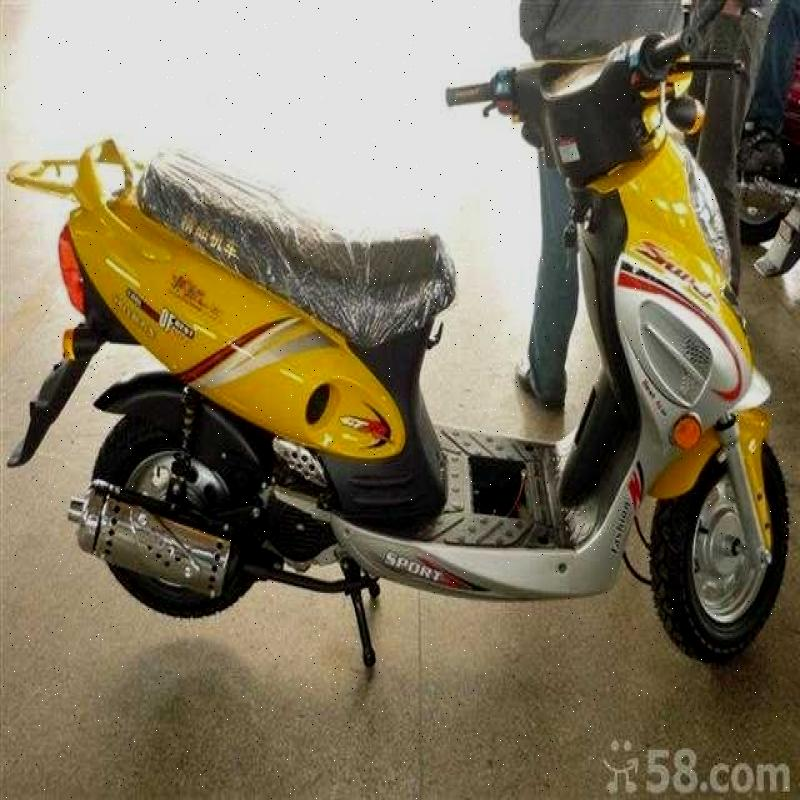bike: (40, 27, 798, 667)
